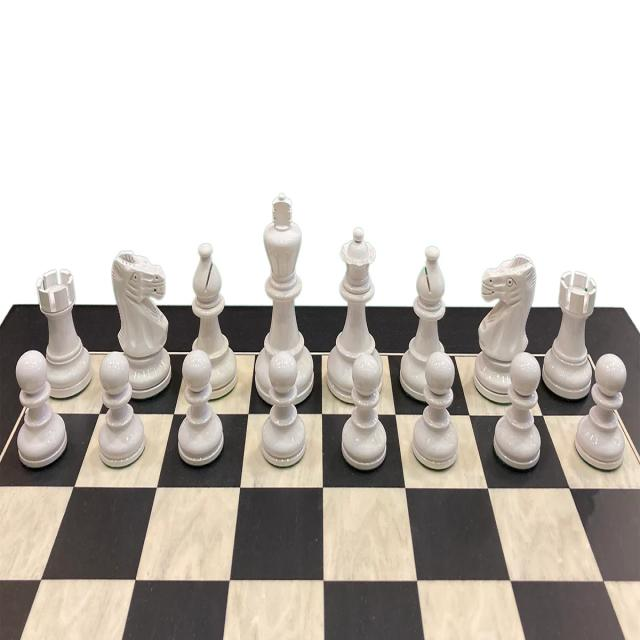white-bishop: (191, 242, 238, 400), (400, 245, 446, 402)
white-king: (255, 193, 314, 405)
white-knight: (472, 255, 537, 404), (111, 250, 172, 400)
white-pawn: (15, 349, 68, 468), (574, 353, 627, 472), (411, 352, 458, 472), (98, 352, 146, 469), (493, 352, 541, 469), (178, 349, 224, 466), (341, 354, 387, 470), (261, 351, 306, 468)
white-queen: (326, 226, 384, 404)
white-rook: (36, 269, 93, 400), (542, 270, 596, 400)
